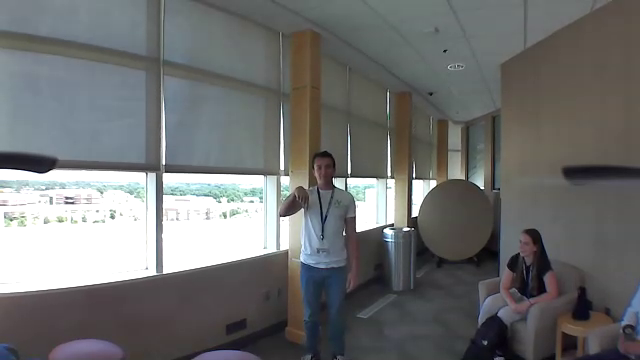down: (290, 184, 313, 219)
